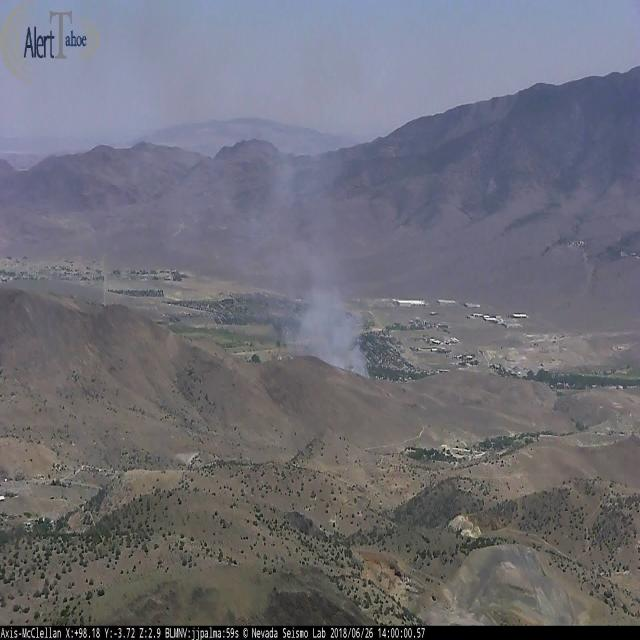smoke: (269, 151, 371, 382)
